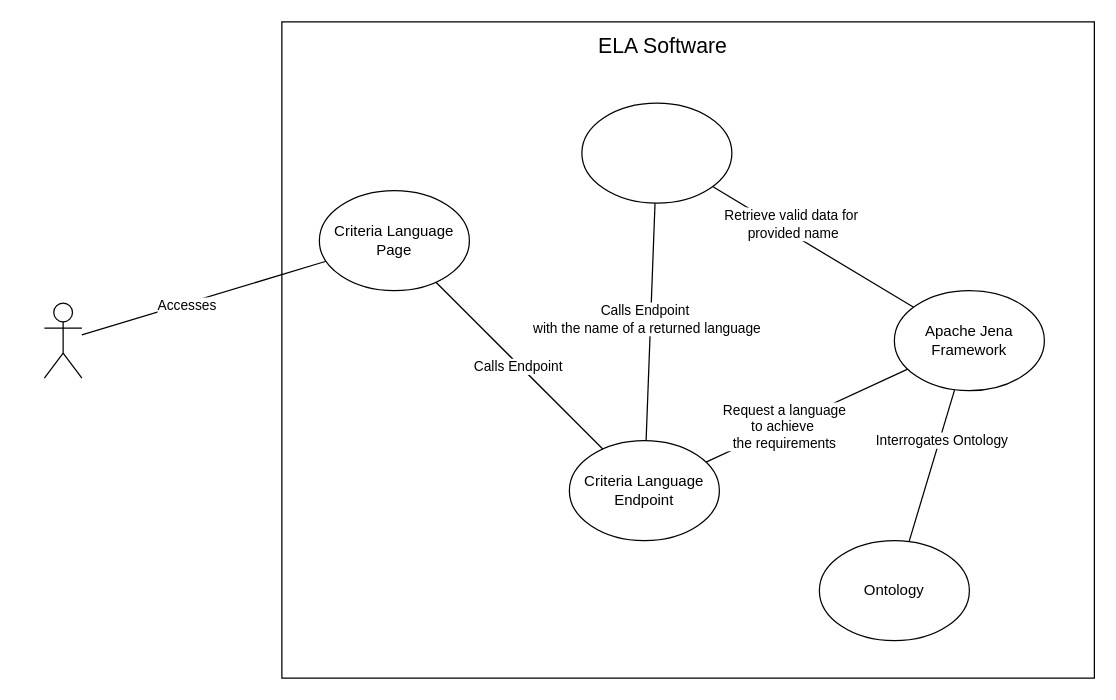
The diagram is 1116 pixels wide and 700 high, and some of its shapes have lost their labels. Here are the shapes that lost their labels. From the top down, the box of each, then its label:
(581, 102, 732, 203): Specific Language Endpoint
(43, 302, 82, 378): Human User
